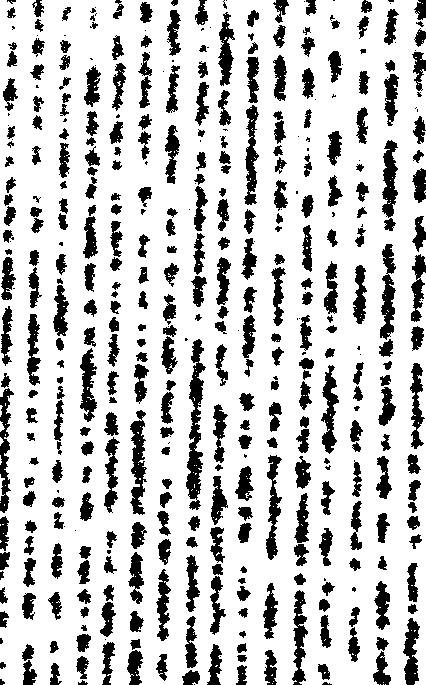Surco: (373, 0, 401, 680), (347, 2, 373, 668), (50, 1, 75, 684), (182, 2, 207, 685), (157, 0, 182, 681), (21, 1, 45, 683), (128, 3, 152, 683), (76, 6, 99, 684), (319, 4, 342, 682), (294, 1, 316, 682), (209, 3, 231, 680), (236, 10, 258, 685), (102, 1, 123, 685), (405, 1, 426, 682), (0, 3, 19, 670)
